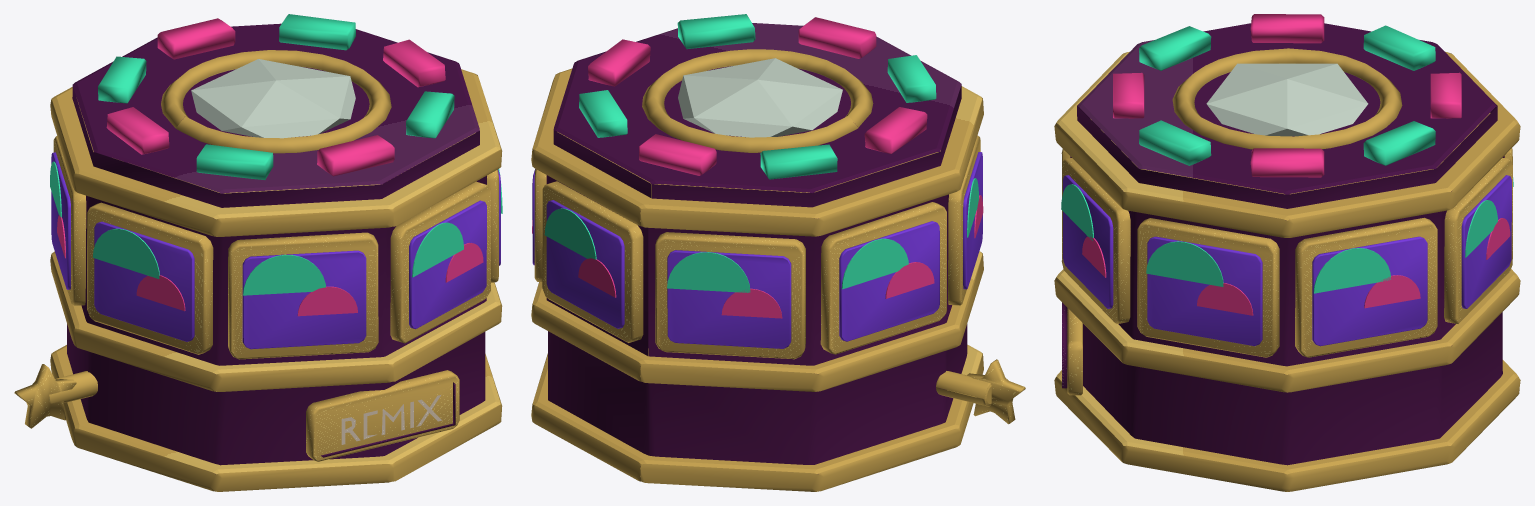
File: jackpot_remix.glb
3 renders of one model, left to right at view 1: azimuth 30°, elevation 25°; view 2: azimuth 150°, elevation 25°; view 3: azimuth 270°, elevation 25°, orthographic.
Parts seen in each view (by area): view 1: jackpot_remix_brass, jackpot_remix_plum, jackpot_remix_violet, jackpot_remix_mint, jackpot_remix_pink, Faceted top optical lens, REMIX label; view 2: jackpot_remix_brass, jackpot_remix_plum, jackpot_remix_violet, jackpot_remix_mint, jackpot_remix_pink, Faceted top optical lens; view 3: jackpot_remix_brass, jackpot_remix_plum, jackpot_remix_violet, jackpot_remix_mint, jackpot_remix_pink, Faceted top optical lens.
Part boxes in pixels (x1,y1,x2,y2): jackpot_remix_brass: (14,50,502,491); jackpot_remix_plum: (67,23,486,465); jackpot_remix_violet: (51,152,500,349); jackpot_remix_mint: (50,14,502,295); jackpot_remix_pink: (57,18,483,316); Faceted top optical lens: (191,59,355,138); REMIX label: (341,395,441,444); jackpot_remix_brass: (531,49,1025,491); jackpot_remix_plum: (546,23,967,464); jackpot_remix_violet: (532,152,982,348); jackpot_remix_mint: (544,14,978,292); jackpot_remix_pink: (532,17,983,318); Faceted top optical lens: (678,58,842,137); jackpot_remix_brass: (1054,48,1520,491); jackpot_remix_plum: (1062,23,1504,465); jackpot_remix_violet: (1063,175,1511,346); jackpot_remix_mint: (1061,25,1513,293); jackpot_remix_pink: (1082,14,1510,315); Faceted top optical lens: (1206,63,1368,136).
Size of the model in its own units: 0.4472 by 0.3218 by 0.3907.
